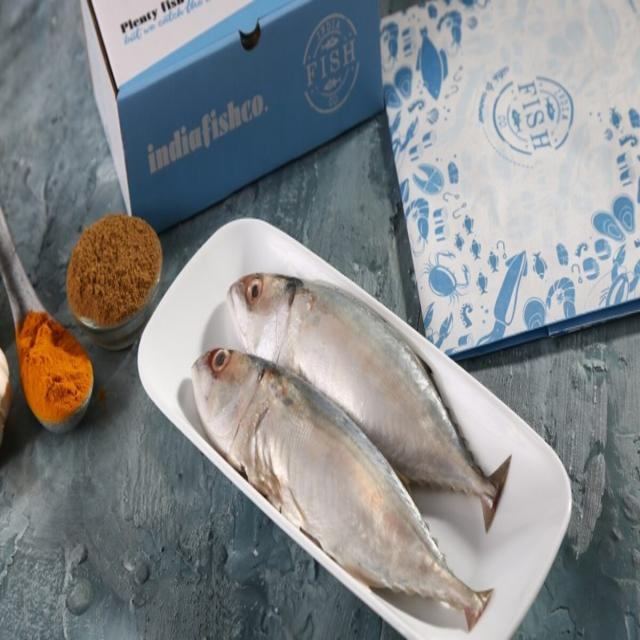Mackerel: (191, 349, 491, 628), (228, 273, 509, 530)
